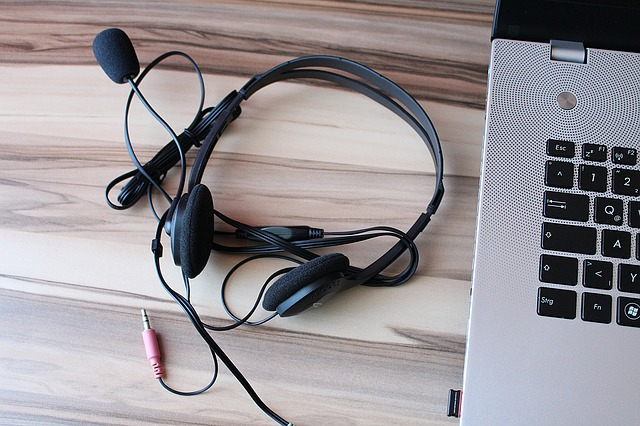headphones: (165, 55, 445, 318)
